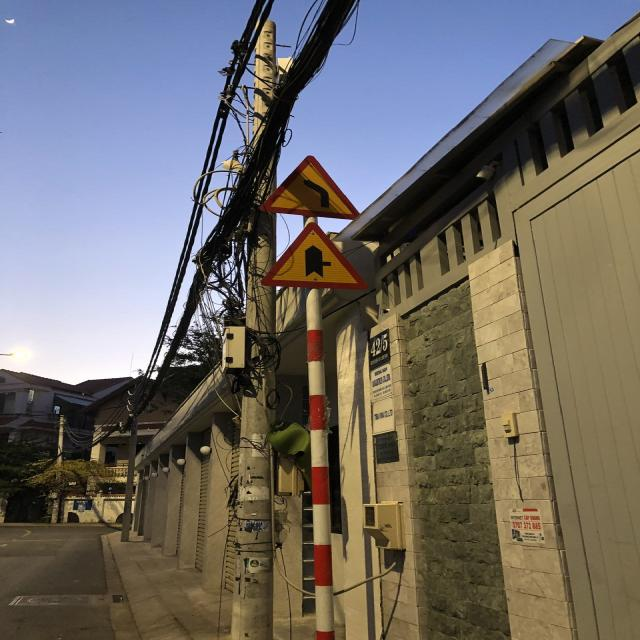Bien bao cho ngoat nguy hiem: (257, 154, 363, 222)
Bien bao giao nhau voi duong khong uu tien: (253, 218, 369, 298)
